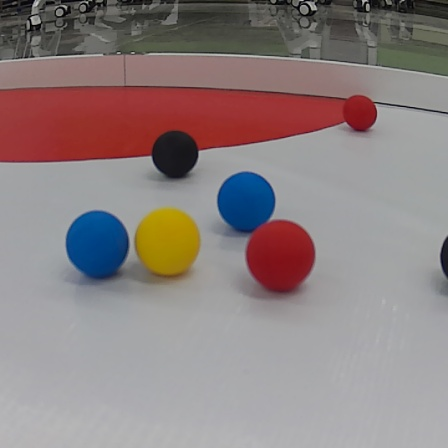black: (150, 127, 197, 177)
blue: (65, 209, 129, 278), (217, 173, 277, 229)
red: (248, 219, 318, 292), (341, 93, 377, 135)
red_base: (0, 77, 384, 170)
yellow: (134, 206, 202, 277)
